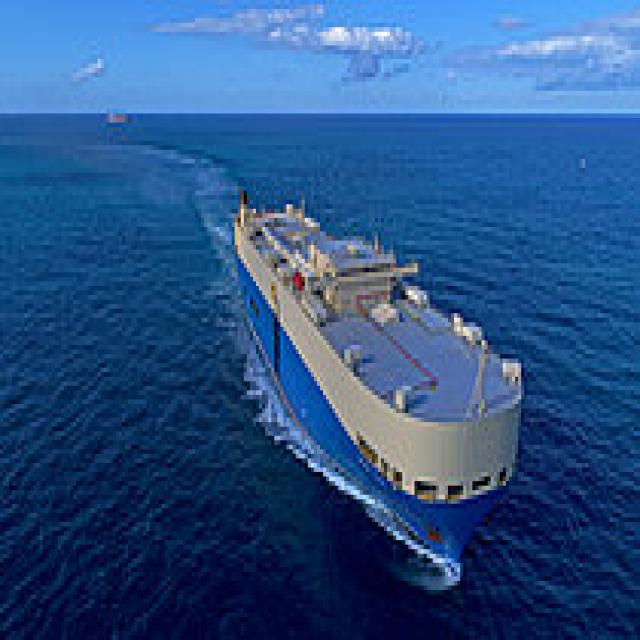Carrier: (220, 182, 524, 581)
